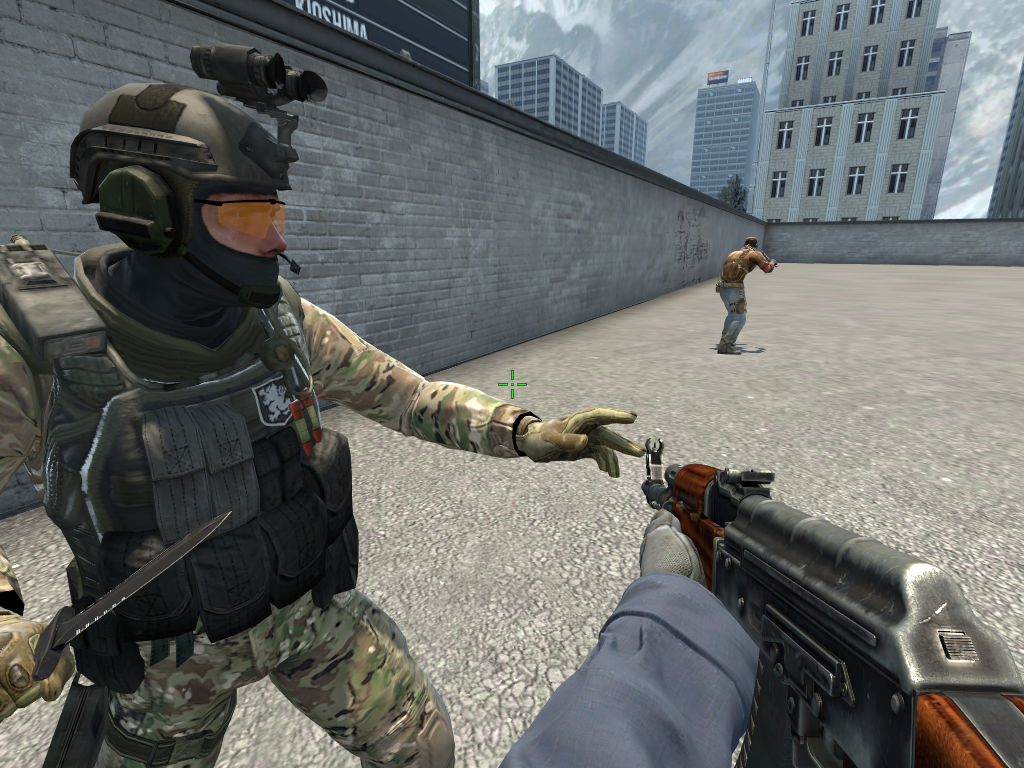ct head: (63, 44, 330, 317)
tr head: (742, 237, 761, 252)
